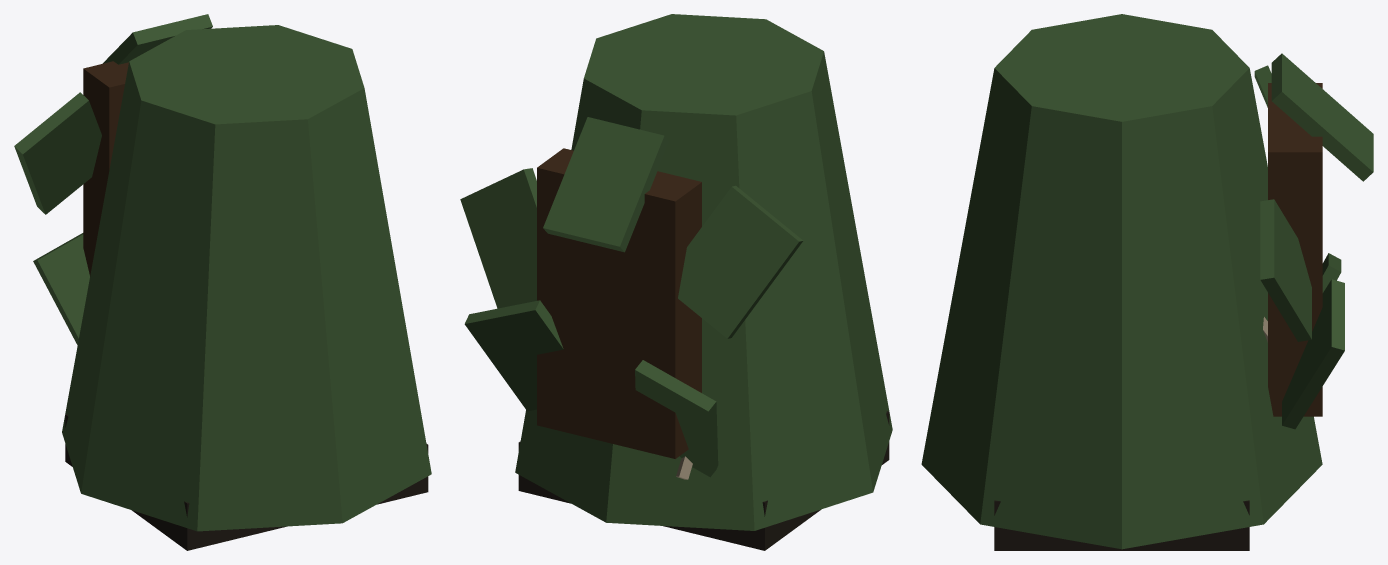
Rendered from torn_cocoon.glb.
3 renders of one model, left to right at view 1: azimuth 30°, elevation 25°; view 2: azimuth 150°, elevation 25°; view 3: azimuth 270°, elevation 25°, orthographic. The views are drawn at different scales.
Parts seen in each view (by area): view 1: torn_cocoon; view 2: torn_cocoon; view 3: torn_cocoon.
Part boxes in pixels (x1,y1,x2,y2): torn_cocoon: (14,14,431,550); torn_cocoon: (460,14,892,550); torn_cocoon: (921,14,1373,550).
Size of the model in its own units: 2.2 by 2.55 by 2.48.
Materials: 2 (1 with a texture image).
